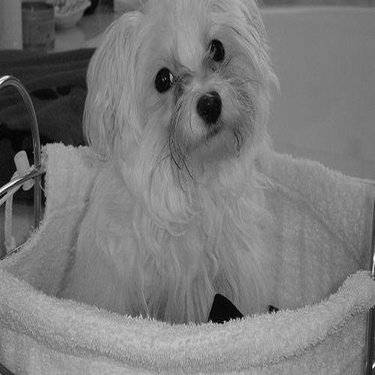dog: (65, 1, 291, 331)
